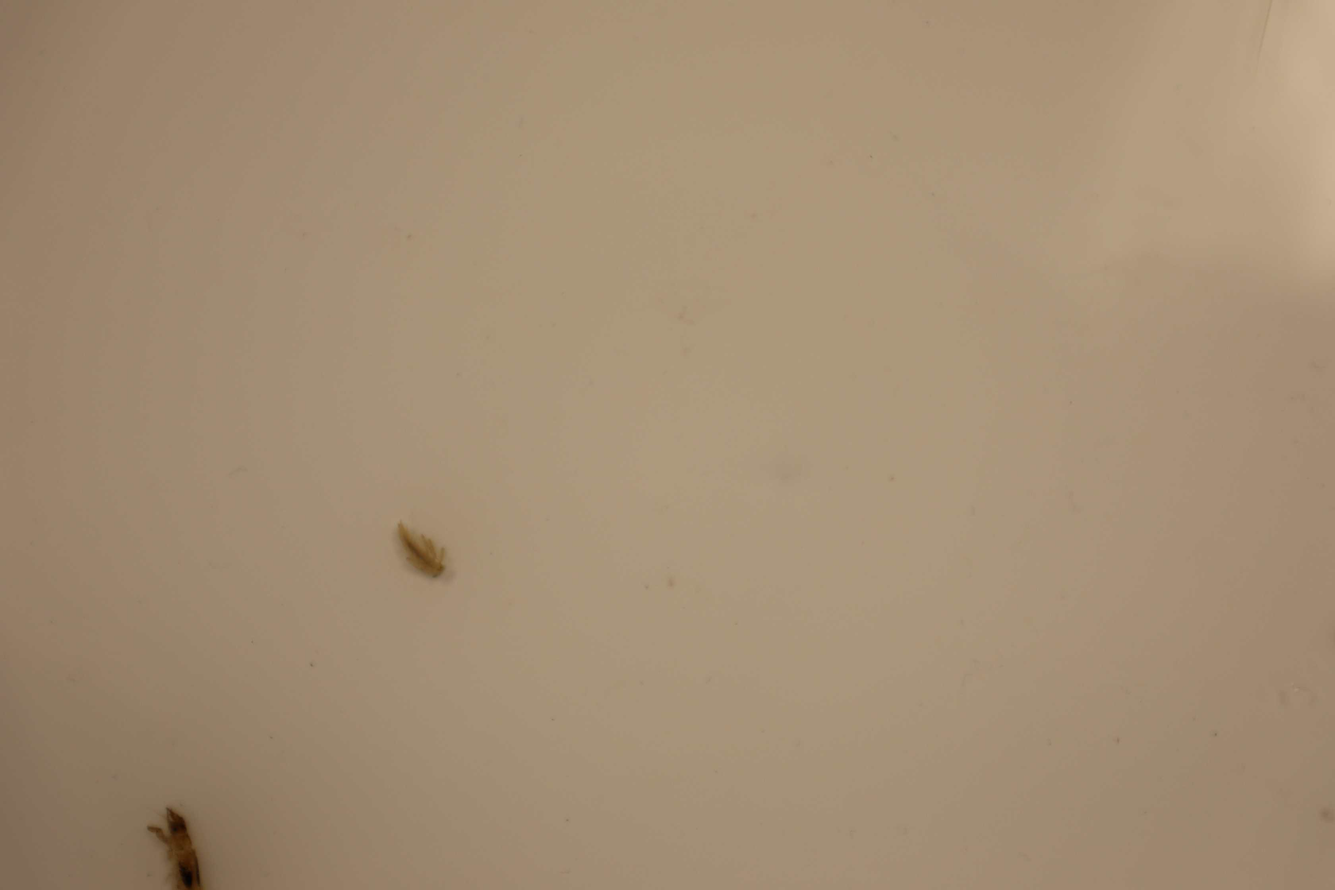Mayfly: (388, 517, 453, 586)
Other: (155, 794, 199, 890)
